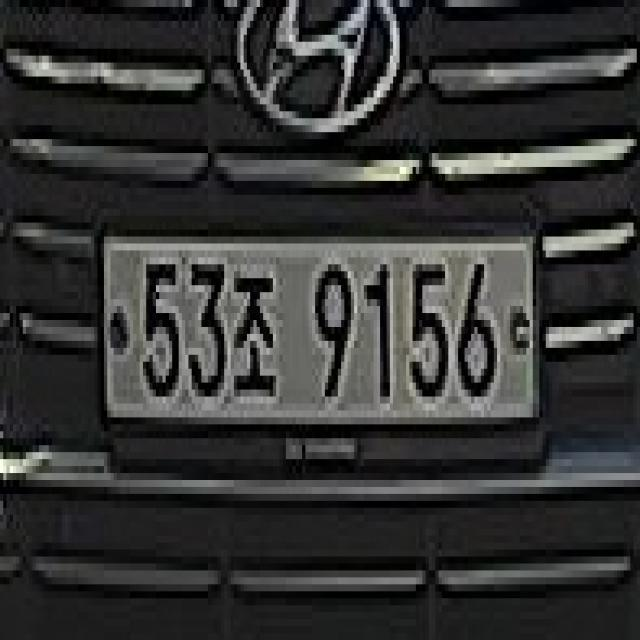1: (362, 253, 399, 412)
3: (189, 252, 230, 405)
5: (136, 253, 186, 397), (404, 257, 452, 398)
6: (456, 258, 504, 404)
9: (309, 255, 358, 406)
jo: (233, 260, 280, 402)
license_plate: (95, 224, 541, 434)
